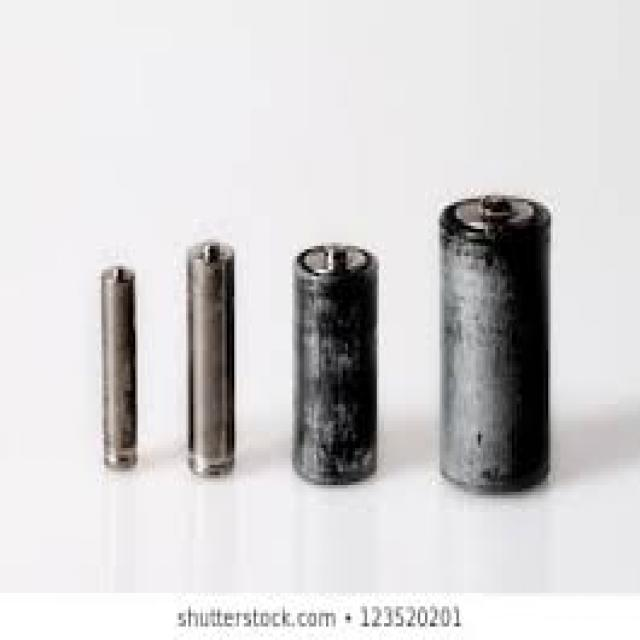non-organic waste: (442, 187, 553, 502), (293, 246, 377, 490), (185, 240, 236, 481), (101, 256, 139, 476)
